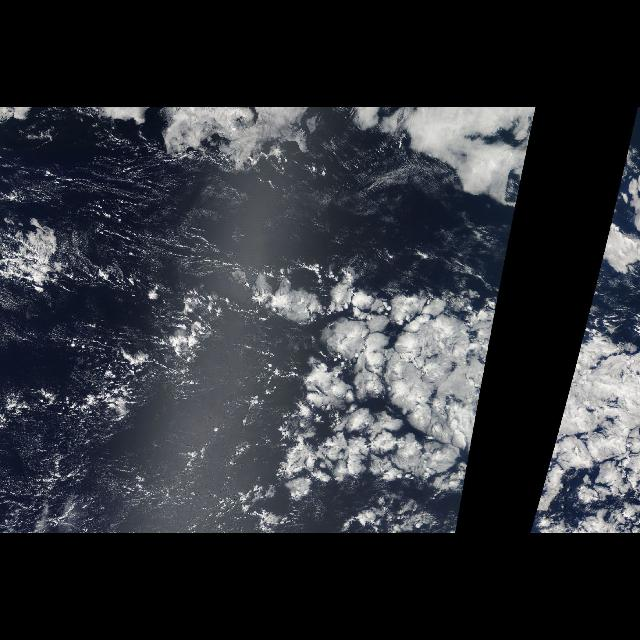Flower: (235, 254, 507, 534), (526, 254, 640, 534)
Gravel: (2, 208, 226, 447)
Sugar: (49, 157, 440, 263), (3, 413, 218, 533)
